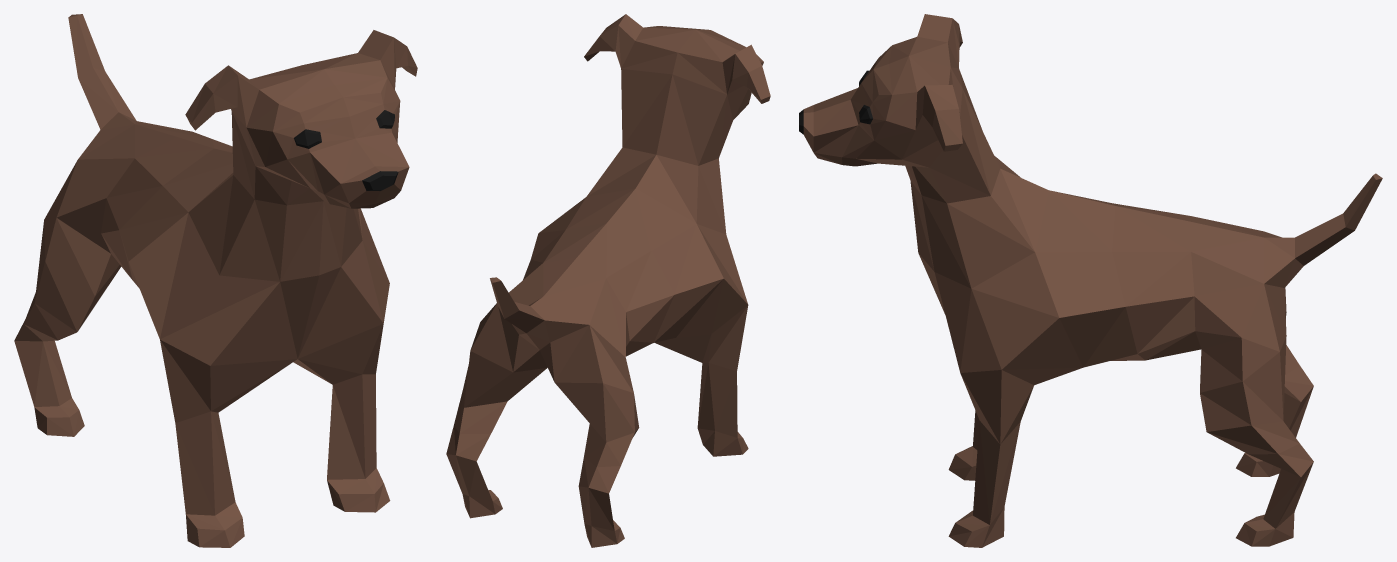
Rendered from perro_chico.glb.
3 views of the same model, side by side, from view 1: azimuth 30°, elevation 25°; view 2: azimuth 150°, elevation 25°; view 3: azimuth 270°, elevation 25° (orthographic). The views are drawn at different scales.
Visible parts, largest first — view 1: dog; view 2: dog; view 3: dog.
Boxes of the visible parts, <box> form: dog: <box>14,14,417,547</box>; dog: <box>446,14,770,547</box>; dog: <box>799,14,1382,547</box>.
Bounding box in the file's own units: 0.15 × 0.3 × 0.35.
Materials: 1 (1 with a texture image).
